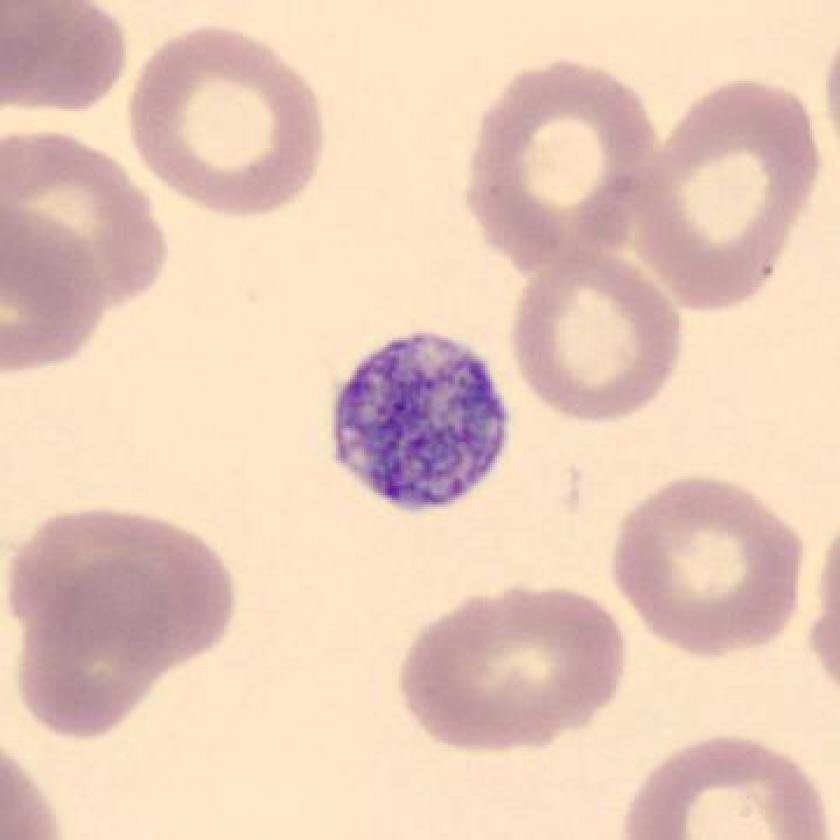platelets: (321, 323, 512, 524)
